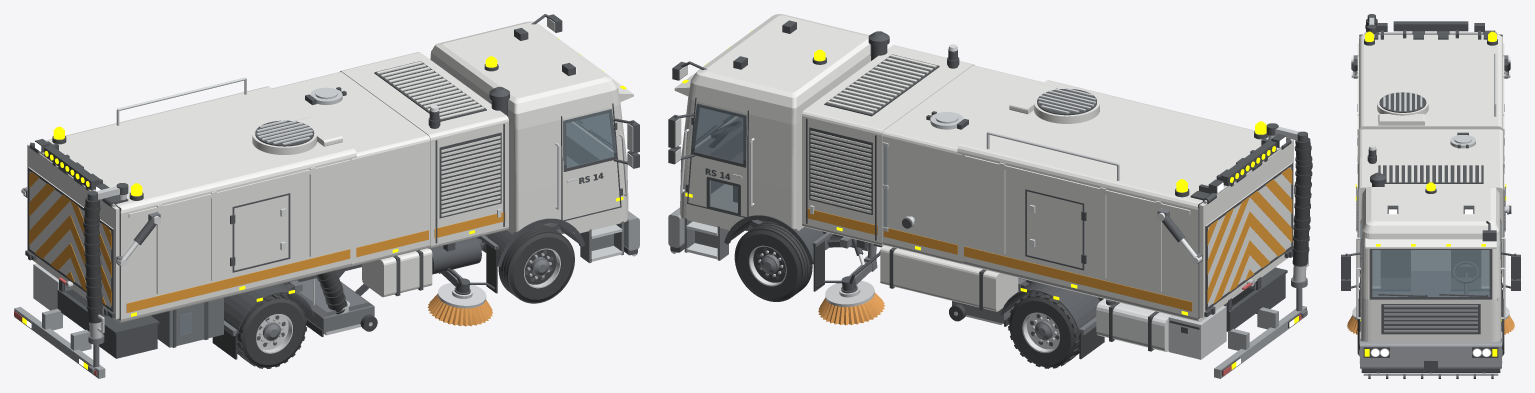
Rendered from road-sweeper.glb.
3 renders of one model, left to right at view 1: azimuth 30°, elevation 25°; view 2: azimuth 150°, elevation 25°; view 3: azimuth 270°, elevation 25°, orthographic. The views are drawn at different scales.
Parts seen in each view (by area): view 1: cab, tie_rod, tyres, wheel_hubs, side_stripes, tool_box, hydraulic_tank_gauge, grille_slats, fuel_tank, broom_bristles, wheel_rims, side_markers; view 2: cab, tie_rod, tyres, side_stripes, tool_box, wheel_hubs, fuel_tank, hydraulic_tank_gauge, grille_slats, broom_bristles, wheel_rims, side_markers; view 3: cab, tie_rod, hydraulic_tank_gauge, grille_slats, tool_box, wheel_hubs, fuel_tank, side_markers, tyres, headlights, broom_bristles, wheel_nuts.
Boxes of the visible parts, left/top/right/bottom form: cab: left=27, top=21, right=633, bottom=323; tie_rod: left=14, top=14, right=639, bottom=376; tyres: left=83, top=197, right=574, bottom=368; wheel_hubs: left=23, top=123, right=627, bottom=373; side_stripes: left=29, top=172, right=505, bottom=312; tool_box: left=33, top=77, right=636, bottom=338; hydraulic_tank_gauge: left=179, top=109, right=616, bottom=335; grille_slats: left=14, top=211, right=639, bottom=378; fuel_tank: left=21, top=18, right=633, bottom=266; broom_bristles: left=427, top=294, right=492, bottom=326; wheel_rims: left=256, top=248, right=560, bottom=353; side_markers: left=22, top=37, right=626, bottom=369; cab: left=674, top=14, right=1293, bottom=321; tie_rod: left=668, top=20, right=1307, bottom=376; tyres: left=734, top=137, right=1312, bottom=368; side_stripes: left=807, top=167, right=1292, bottom=311; tool_box: left=671, top=88, right=1308, bottom=359; wheel_hubs: left=681, top=117, right=1307, bottom=340; fuel_tank: left=675, top=44, right=1295, bottom=351; hydraulic_tank_gauge: left=692, top=104, right=887, bottom=227; grille_slats: left=668, top=207, right=1306, bottom=378; broom_bristles: left=818, top=292, right=884, bottom=325; wheel_rims: left=749, top=245, right=1059, bottom=352; side_markers: left=682, top=30, right=1298, bottom=369; cab: left=1357, top=34, right=1504, bottom=342; tie_rod: left=1341, top=14, right=1520, bottom=378; hydraulic_tank_gauge: left=1360, top=224, right=1501, bottom=296; grille_slats: left=1360, top=305, right=1501, bottom=368; tool_box: left=1352, top=17, right=1509, bottom=375; wheel_hubs: left=1353, top=55, right=1508, bottom=341; fuel_tank: left=1351, top=57, right=1510, bottom=356; side_markers: left=1355, top=31, right=1506, bottom=356; tyres: left=1357, top=18, right=1504, bottom=356; headlights: left=1371, top=209, right=1490, bottom=356; broom_bristles: left=1347, top=315, right=1514, bottom=334; wheel_nuts: left=1364, top=32, right=1497, bottom=34.
Bounding box in the file's own units: 8.65 × 3.21 × 3.07.
